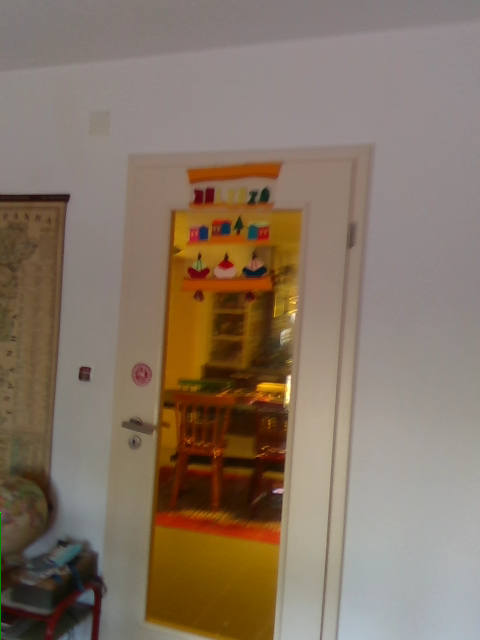closed: (100, 148, 373, 639)
